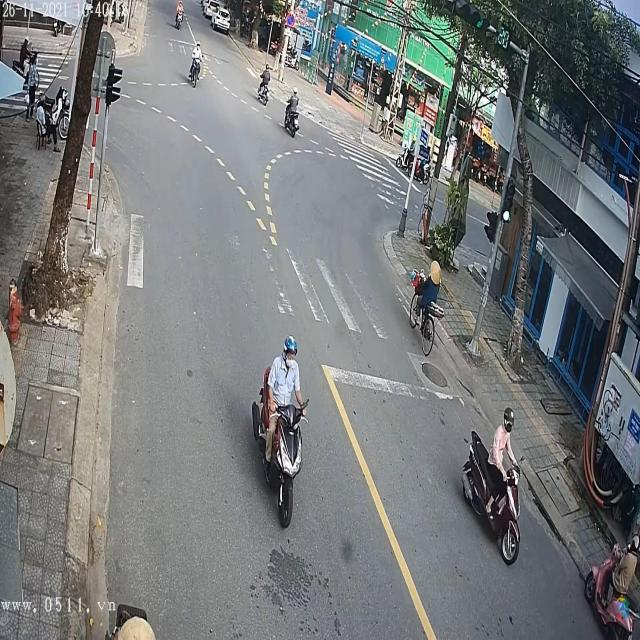motorcycle: (248, 372, 305, 529), (462, 422, 521, 566), (256, 68, 272, 110), (189, 51, 203, 84), (286, 110, 302, 138), (173, 5, 184, 28)
